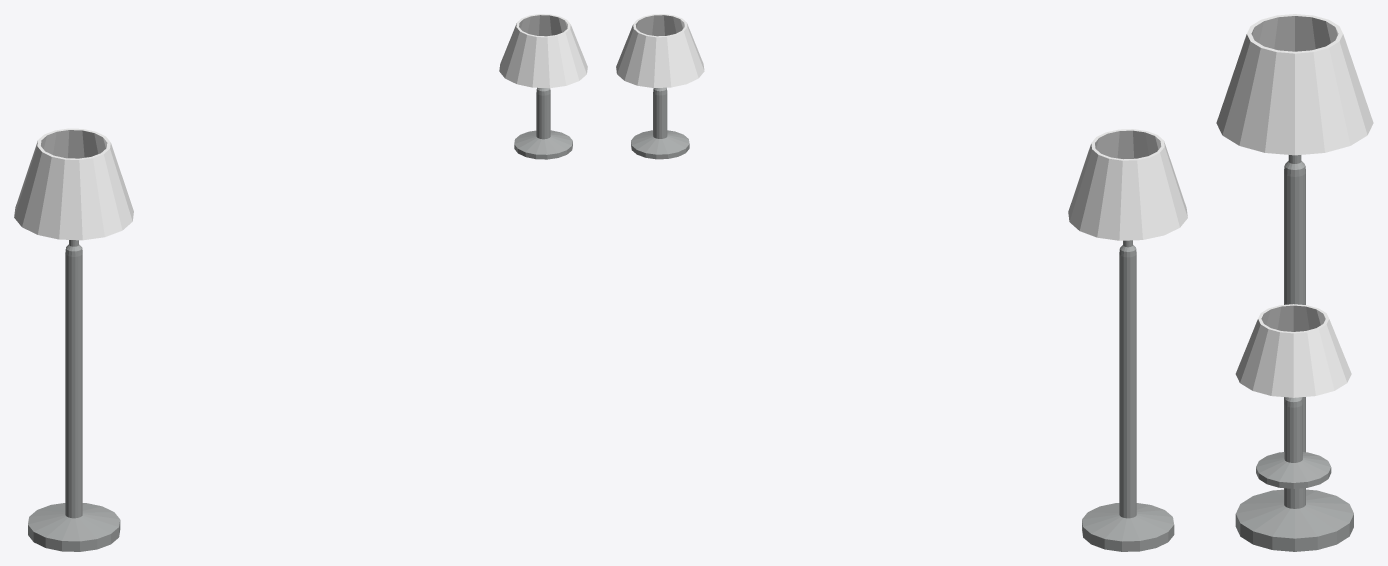
Rendered from Lamps.FBX.
3 views of the same model, side by side, from view 1: azimuth 30°, elevation 25°; view 2: azimuth 150°, elevation 25°; view 3: azimuth 270°, elevation 25° (orthographic). The views are drawn at different scales.
Parts seen in each view (by area): view 1: FloorLamp2, TableLamp; view 2: FloorLamp2, TableLamp; view 3: FloorLamp2, TableLamp.
Boxes of the visible parts, left/top/right/bottom form: FloorLamp2: left=14, top=128, right=133, bottom=551; TableLamp: left=499, top=14, right=587, bottom=159; FloorLamp2: left=1068, top=129, right=1187, bottom=551; TableLamp: left=616, top=14, right=704, bottom=159; FloorLamp2: left=1216, top=14, right=1373, bottom=551; TableLamp: left=1235, top=304, right=1351, bottom=488.
Size of the model in its own units: 2.62 by 0.502 by 1.76.
